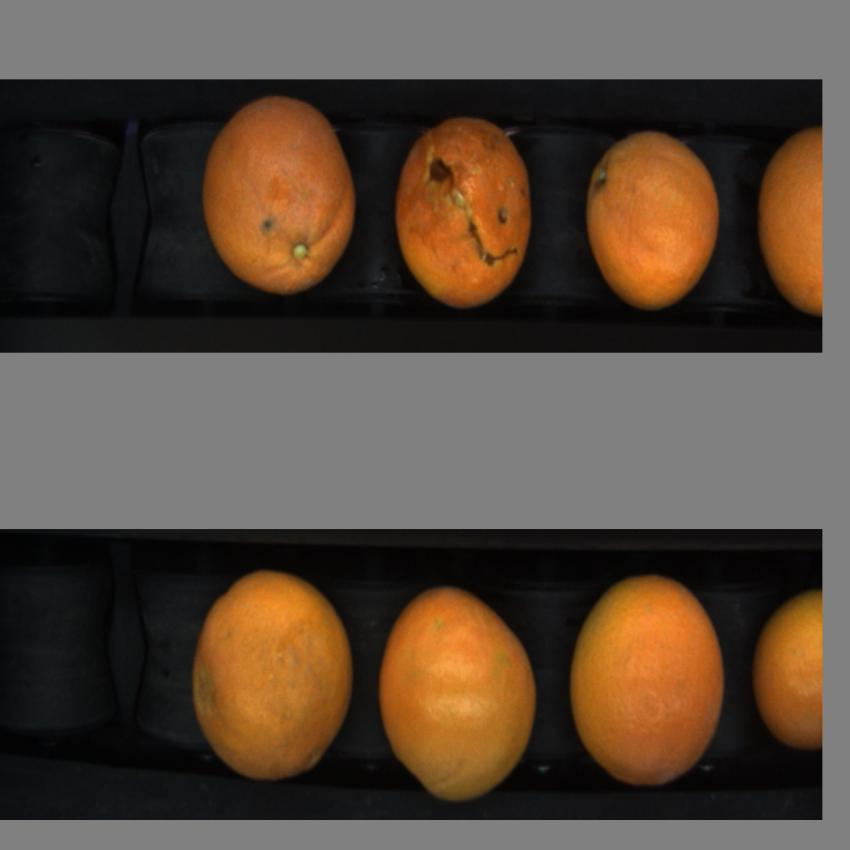Buen estado: (183, 553, 359, 792), (370, 580, 542, 812), (197, 88, 362, 320), (568, 569, 735, 788), (576, 121, 718, 315), (755, 116, 822, 320), (751, 581, 820, 757)
Mal estado: (386, 109, 538, 318)
